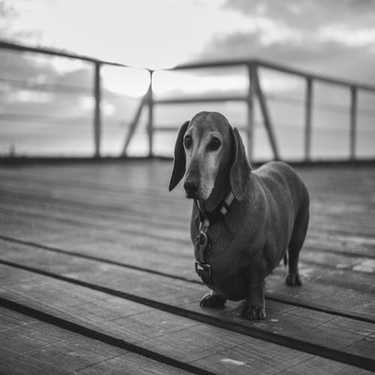dog: (157, 113, 311, 325)
